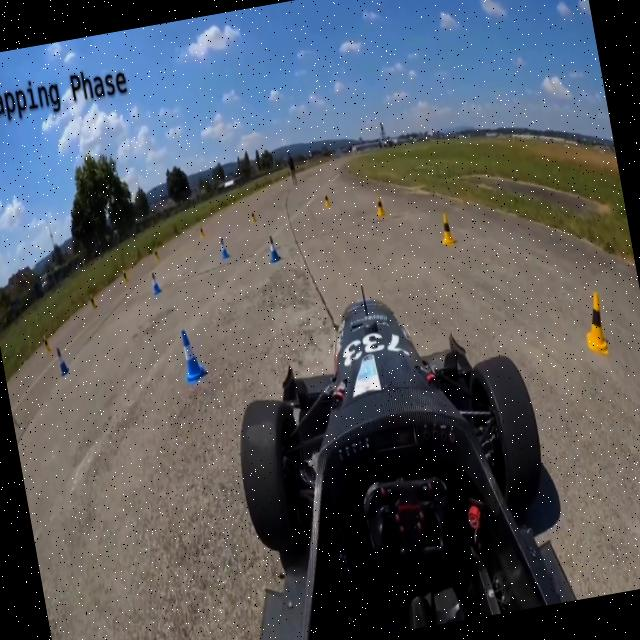blue_cone: (176, 326, 208, 386), (55, 345, 70, 377), (267, 235, 281, 262), (150, 271, 162, 296), (218, 236, 230, 258)
yellow_cone: (579, 290, 609, 356), (438, 212, 457, 246), (374, 195, 386, 216), (42, 333, 52, 353)
